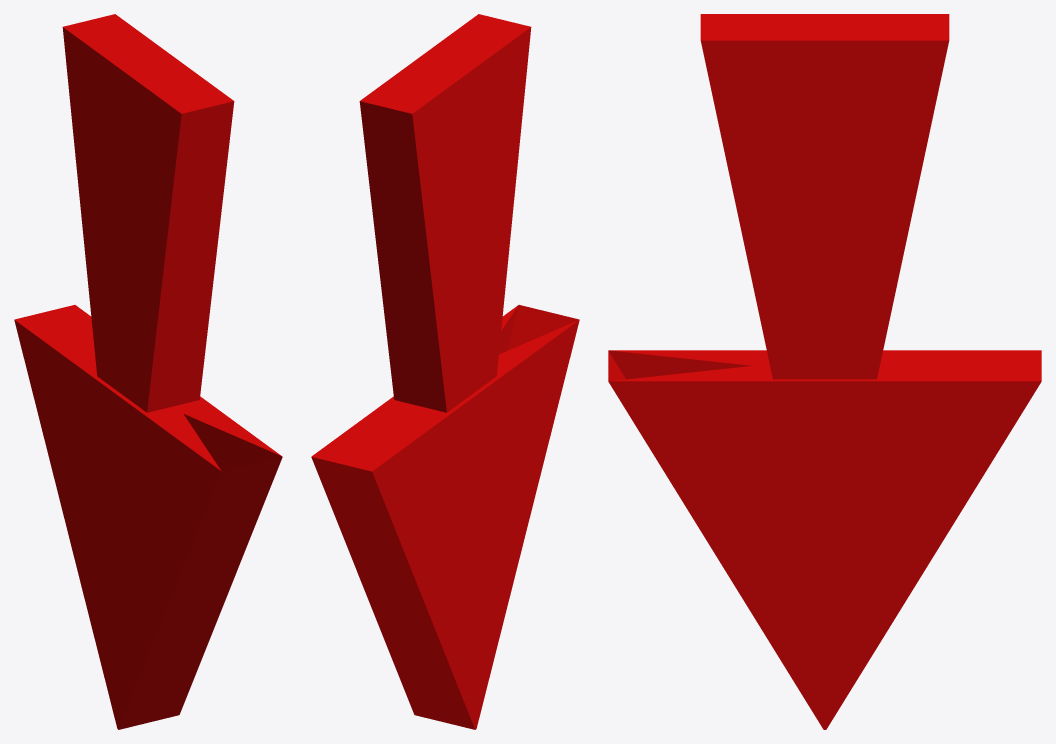
Rendered from arrow.fbx.
The picture shows the model from 3 angles, left to right: view 1: azimuth 30°, elevation 25°; view 2: azimuth 150°, elevation 25°; view 3: azimuth 270°, elevation 25°; orthographic projection. The views are drawn at different scales.
Visible parts, largest first — view 1: polySurface7; view 2: polySurface7; view 3: polySurface7.
Boxes of the visible parts, x1=… form: polySurface7: x1=14, y1=14, x2=282, y2=729; polySurface7: x1=311, y1=14, x2=579, y2=729; polySurface7: x1=608, y1=14, x2=1041, y2=729.
Size of the model in its own units: 0.1506 by 1.55 by 0.8891.
